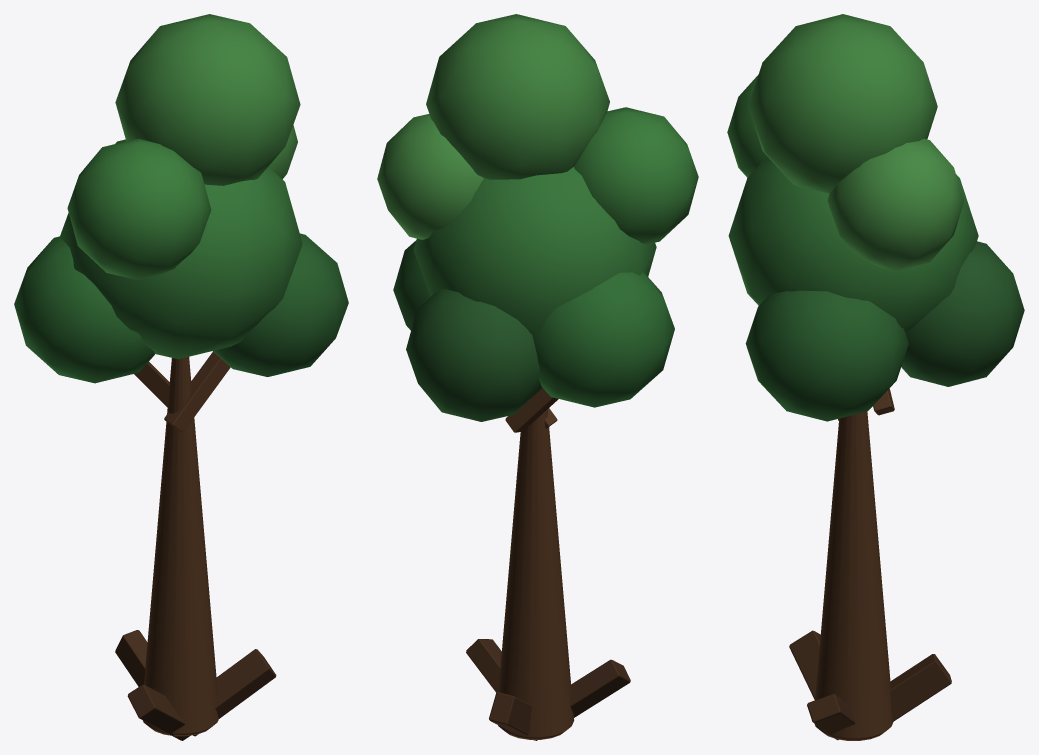
Rendered from tree.56d034a6.glb.
3 renders of one model, left to right at view 1: azimuth 30°, elevation 25°; view 2: azimuth 150°, elevation 25°; view 3: azimuth 270°, elevation 25°, orthographic. The views are drawn at different scales.
Parts seen in each view (by area): view 1: body; view 2: body; view 3: body.
Part boxes in pixels (x1=…): body: x1=14, y1=14, x2=348, y2=740; body: x1=377, y1=14, x2=698, y2=740; body: x1=727, y1=14, x2=1024, y2=740.
Size of the model in its own units: 1.1 by 2.59 by 0.9605.
